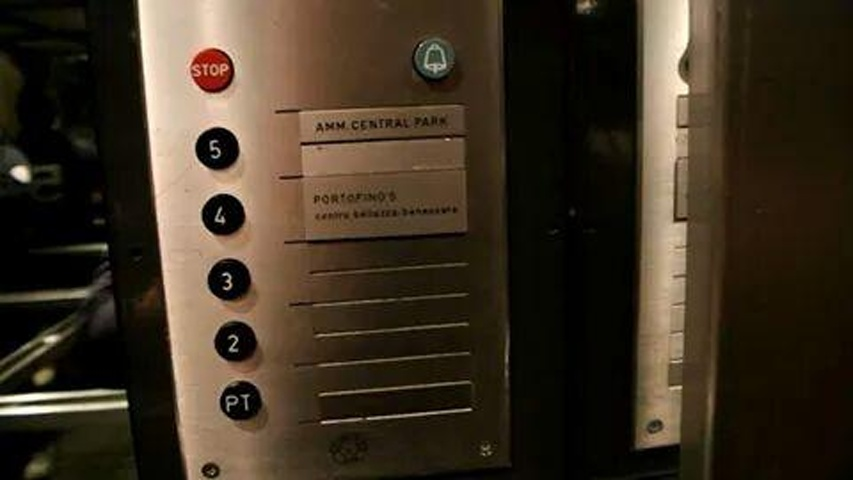2: (211, 316, 259, 364)
3: (204, 255, 252, 303)
4: (197, 190, 247, 238)
5: (191, 124, 241, 172)
PT: (213, 377, 261, 425)
alarm: (411, 33, 460, 82)
keyhole: (326, 431, 370, 472)
text_stop: (187, 46, 237, 94)
